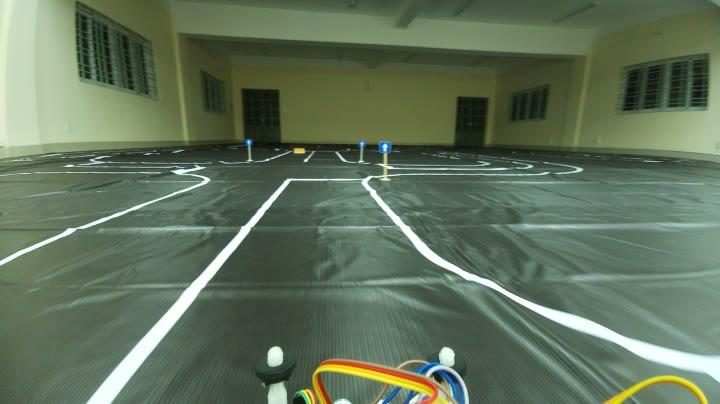onewayroad: (378, 136, 395, 154), (241, 138, 255, 146), (355, 137, 366, 146)
roadblock: (290, 144, 308, 156)
